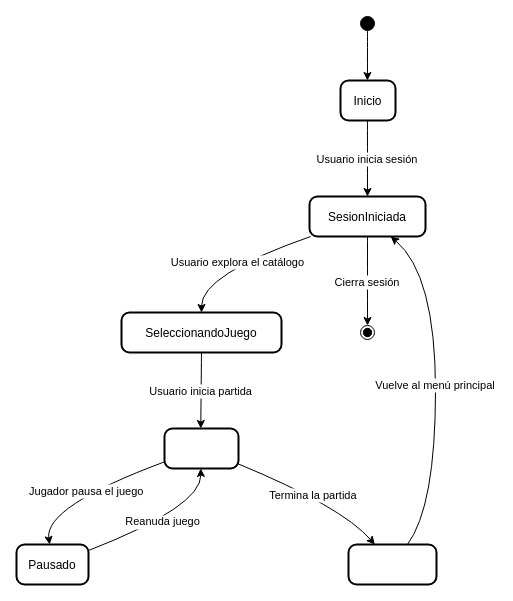
This 513x601 diagram has some shape labels left out. The box of each missing label's shape, as (x1, y1, x2, y2) in pixels:
Finalizado: (347, 543, 437, 585)
Jugando: (163, 427, 239, 469)
